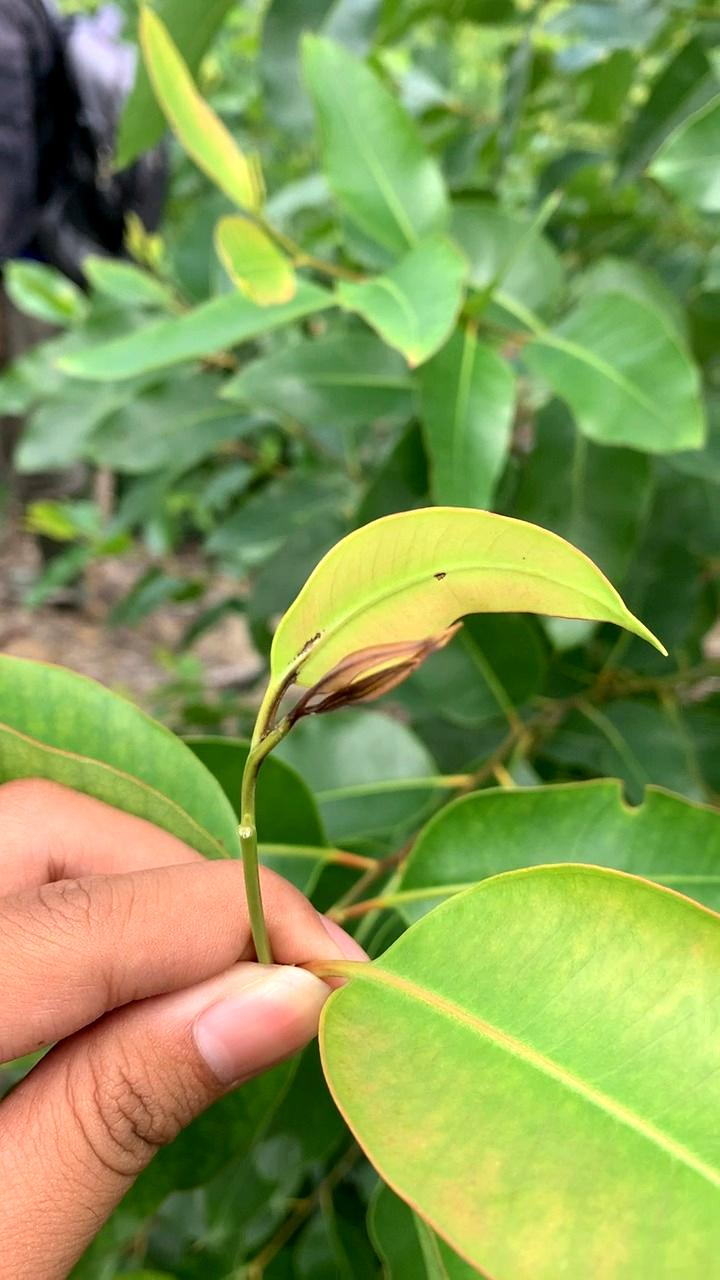Helopeltis-Withered Sprout: (291, 623, 463, 749)
